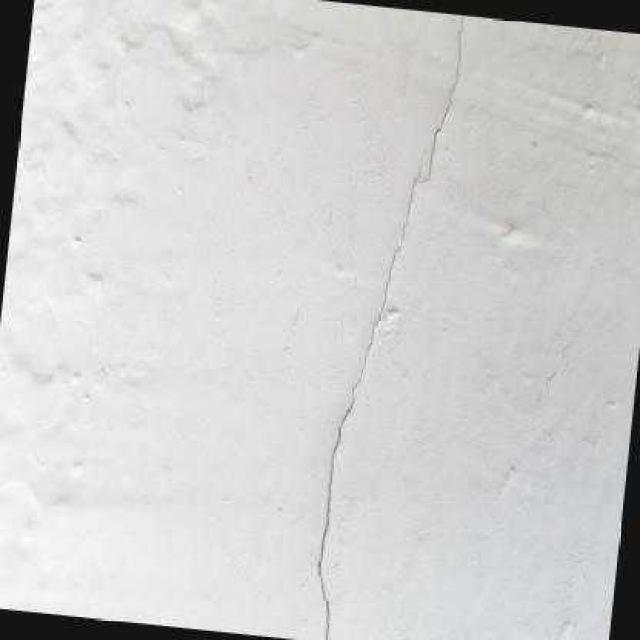D00: (315, 13, 463, 640)
